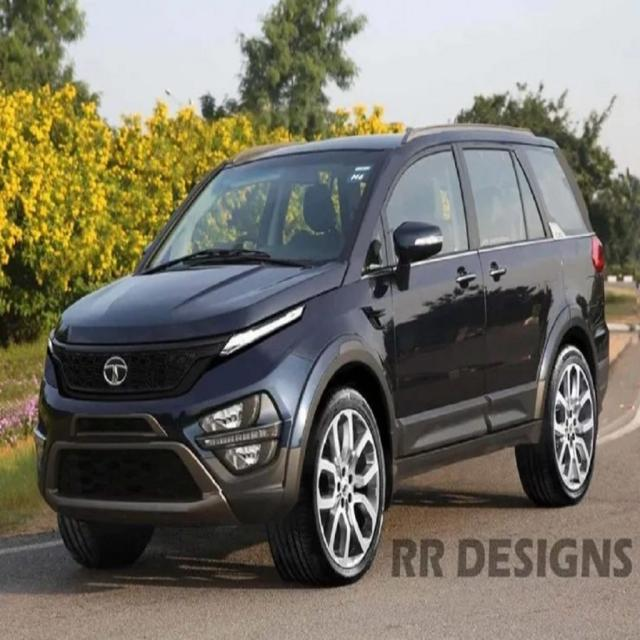car: (39, 132, 609, 530)
